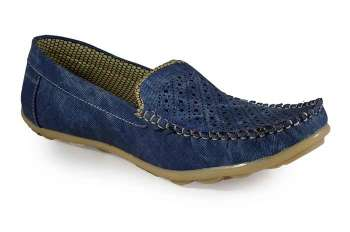Footwear: (9, 31, 333, 181)
